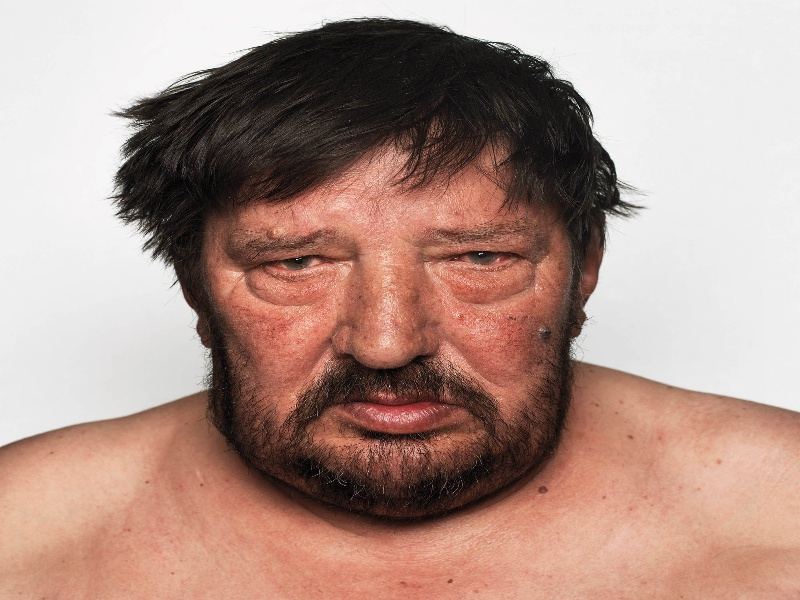face: (242, 222, 531, 442)
